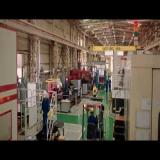Helmet: (43, 91, 47, 98), (66, 78, 68, 81)
